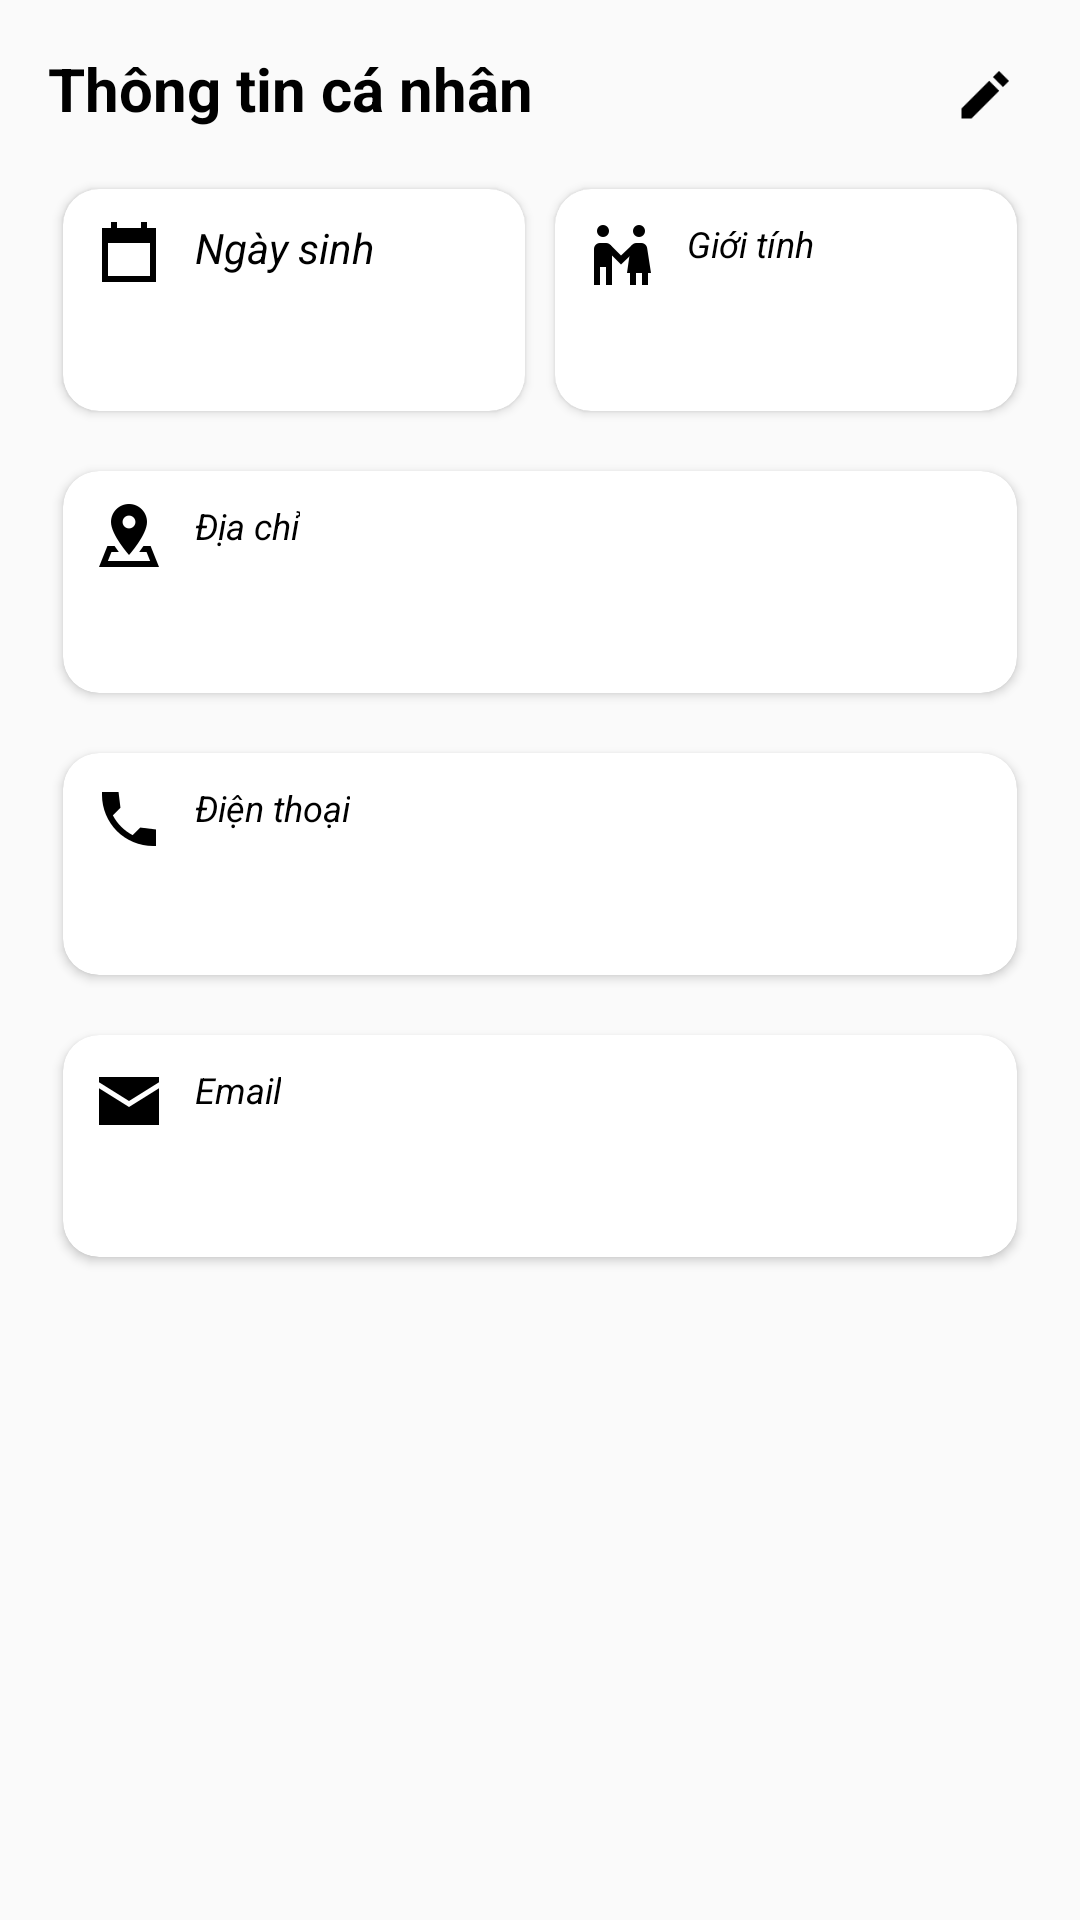

Screen size 1080 × 1920. Icon name, then its box in pixels as (x1=x1, y1=y1, x2=x2, y2=y2):
address: (x1=99, y1=504, x2=159, y2=567)
calendar: (x1=102, y1=222, x2=156, y2=282)
edit: (x1=961, y1=71, x2=1009, y2=119)
gender: (x1=594, y1=225, x2=651, y2=285)
phone: (x1=102, y1=792, x2=156, y2=846)
